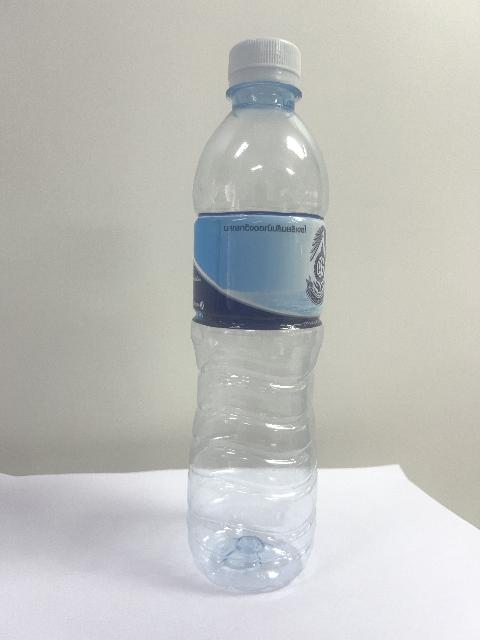bottle: (187, 39, 327, 591)
